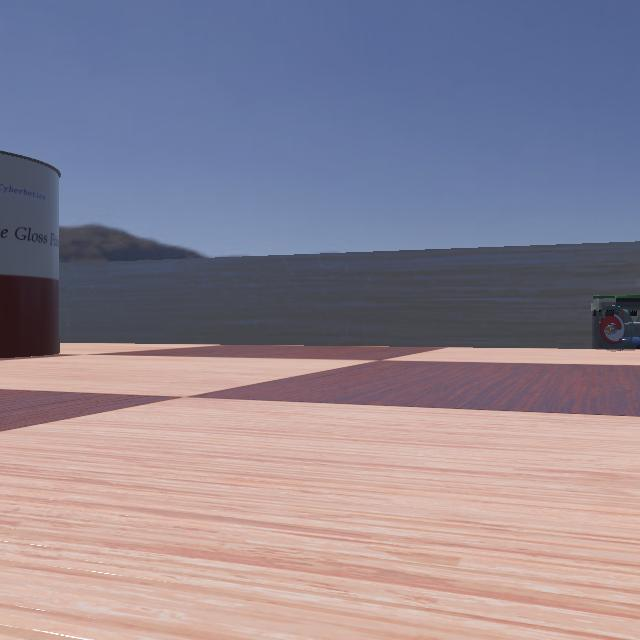paint-bucket: (0, 137, 100, 363)
